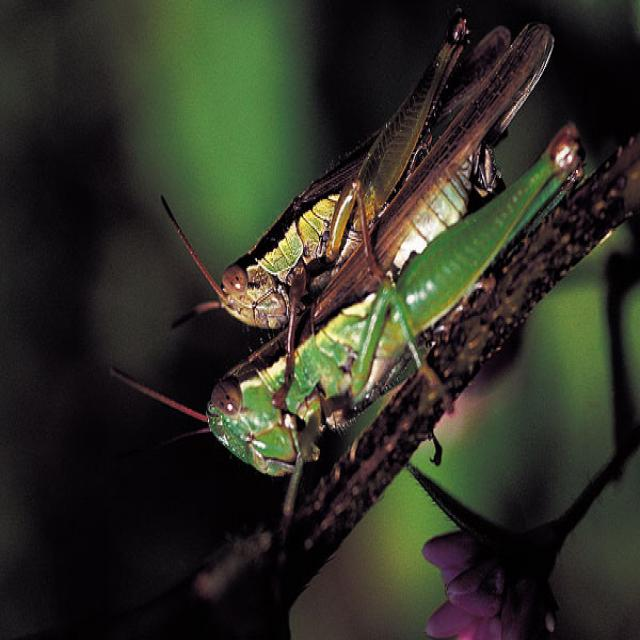ZhaMeng: (182, 107, 594, 501), (137, 21, 556, 353)
